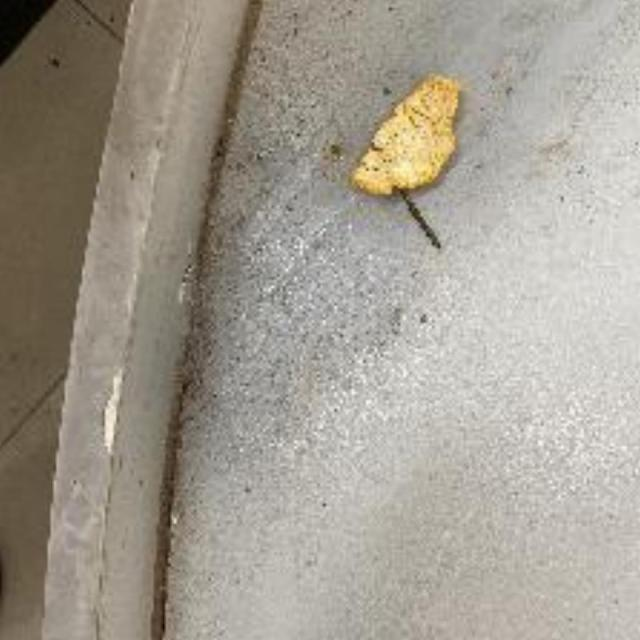orange-peel: (355, 71, 463, 197)
